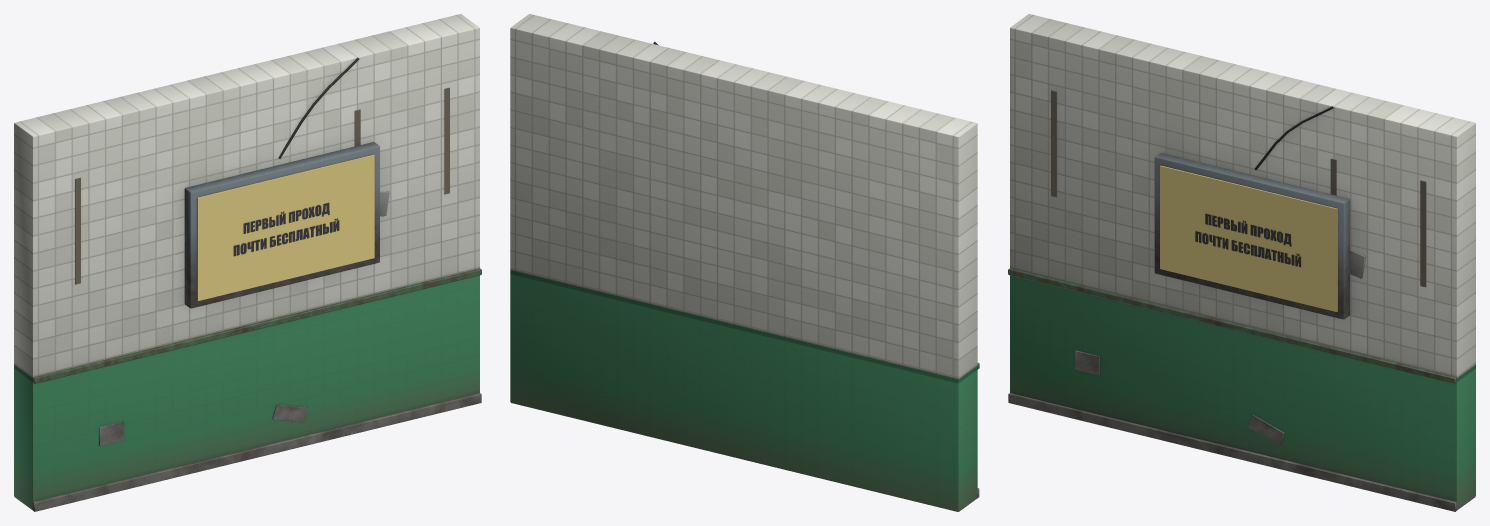
Rendered from g67_pz_wall_b.glb.
The picture shows the model from 3 angles, left to right: view 1: azimuth 30°, elevation 25°; view 2: azimuth 150°, elevation 25°; view 3: azimuth 330°, elevation 25°; orthographic projection.
Visible parts, largest first — view 1: g67_pz_wall_b; view 2: g67_pz_wall_b; view 3: g67_pz_wall_b.
Part boxes in pixels (x1=…): g67_pz_wall_b: x1=14, y1=14, x2=481, y2=511; g67_pz_wall_b: x1=510, y1=14, x2=979, y2=511; g67_pz_wall_b: x1=1008, y1=14, x2=1475, y2=511.
Bounding box in the file's own units: 4 × 3.21 × 0.414.
Materials: 1 (1 with a texture image).
